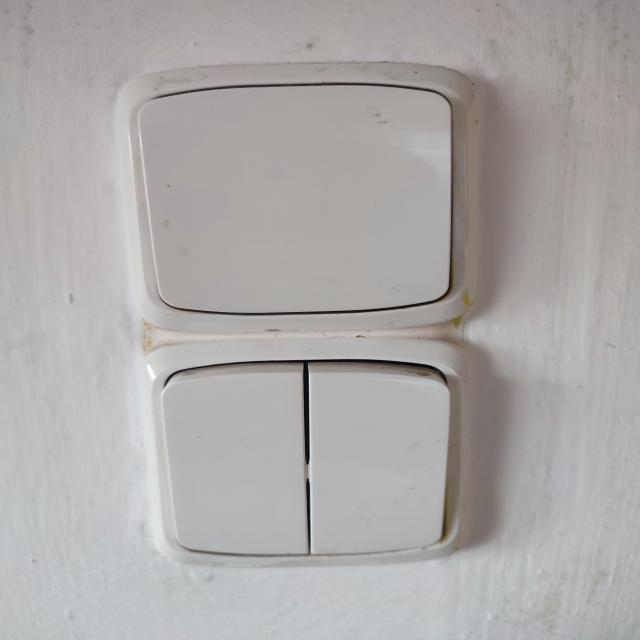house switch: (111, 62, 476, 333)
house switch double: (145, 335, 476, 568)
